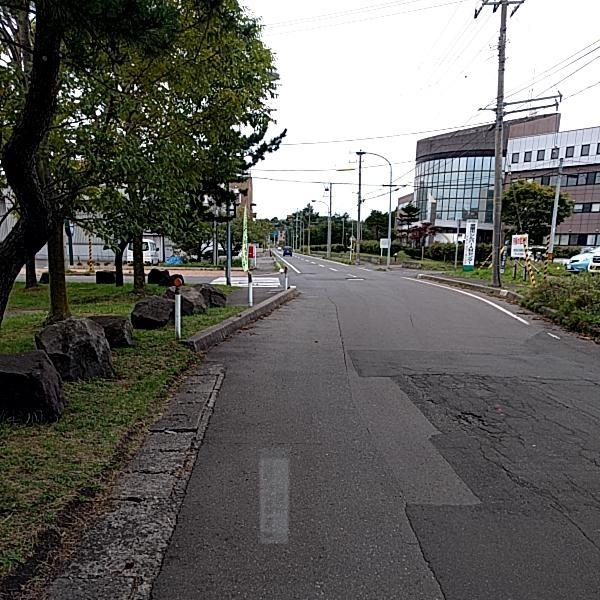pothole: (448, 406, 487, 429)
